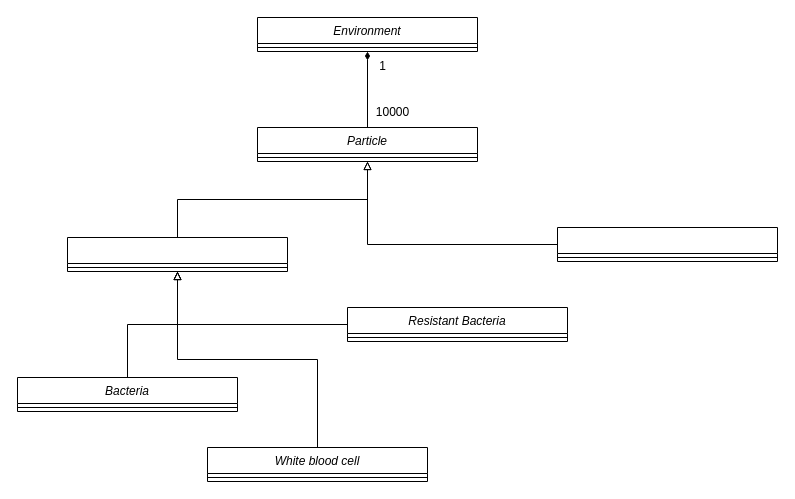
Some shapes in this 795 by 499 pixel diagram are drawn without their labels. The centre of each missing label's shape, as x and y in pixels:
"Antibiotics" belongs at (667,244).
"Cell" belongs at (177,254).
